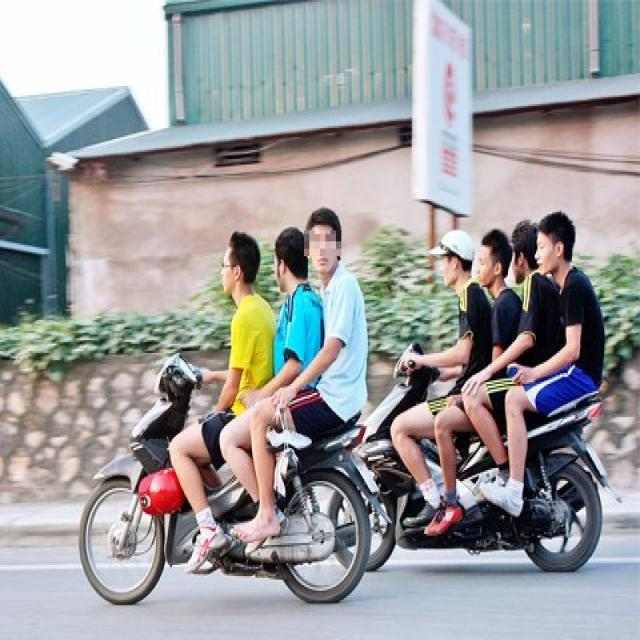no_helmet: (213, 226, 267, 320)
